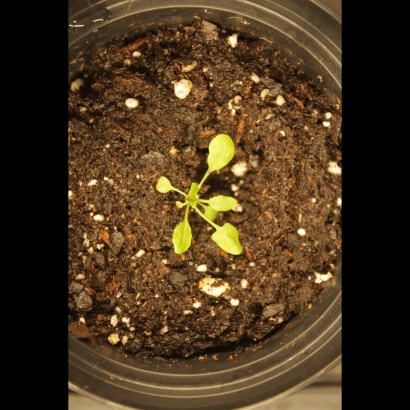leaf: (202, 128, 242, 173), (212, 220, 250, 266), (168, 216, 201, 256), (203, 186, 248, 211), (148, 170, 179, 202), (180, 179, 204, 207), (197, 201, 220, 224)
